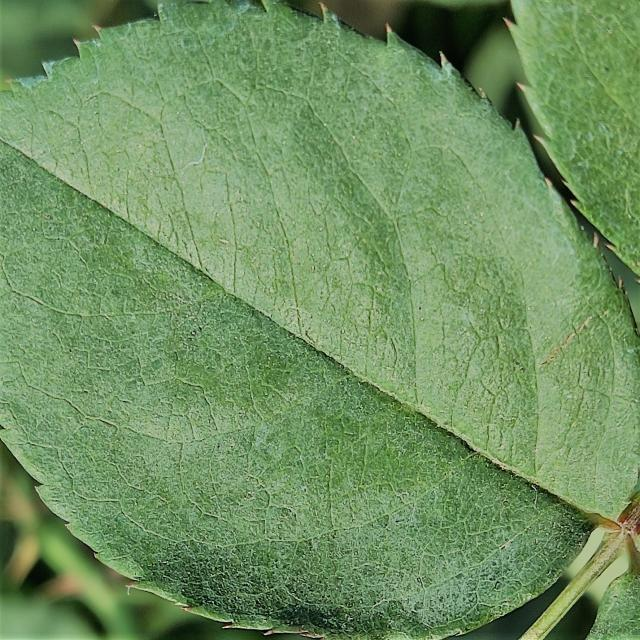Rose: (0, 1, 638, 637)
